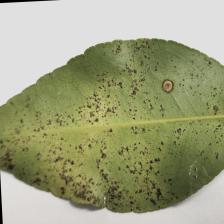canker: (57, 57, 179, 205)
